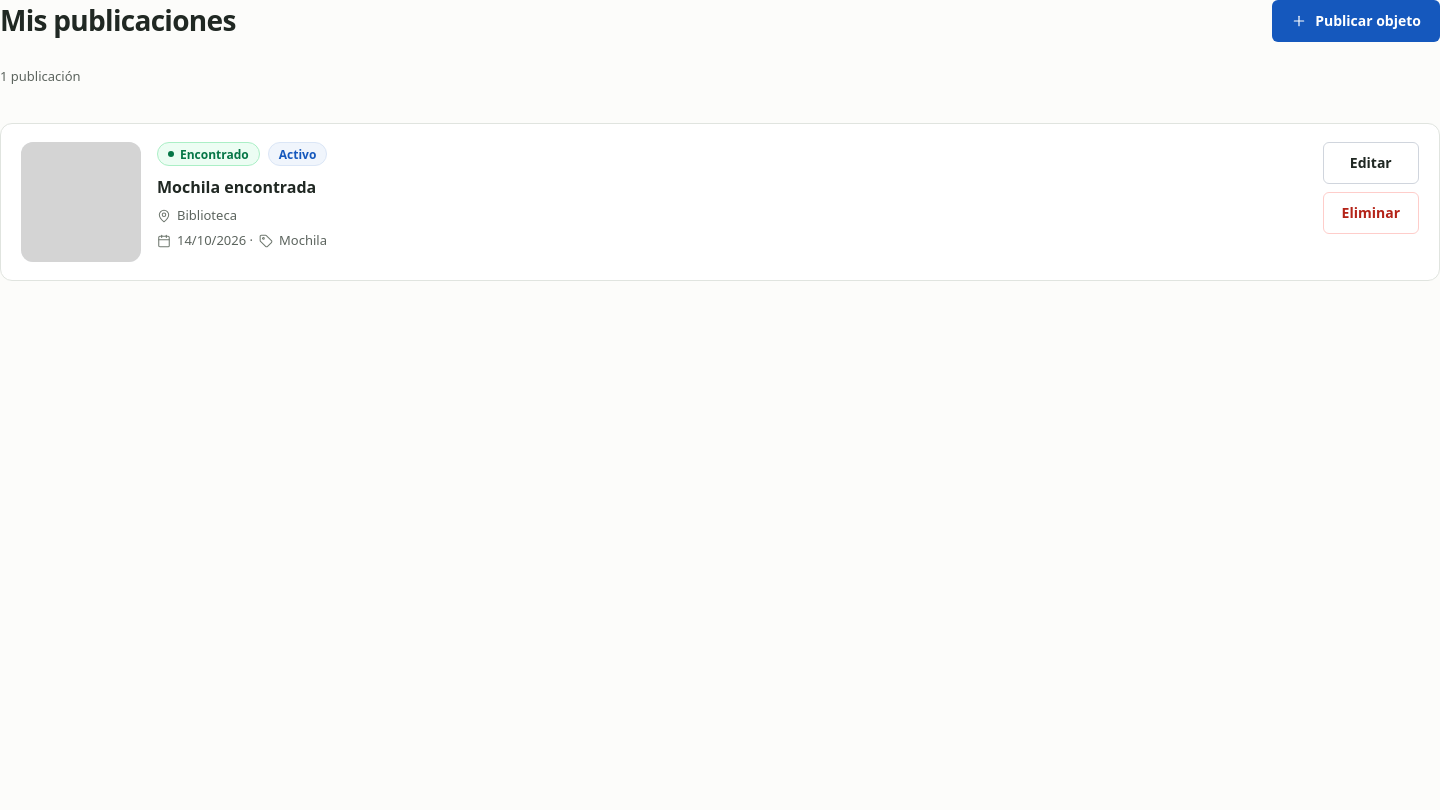
Scenario: H14 - Mis publicaciones › si el servidor rechaza la eliminación no hay éxito ficticio
Click the button with aria-label "Eliminar Mochila encontrada" at (1371, 213), box 1323,192 -> 1419,234
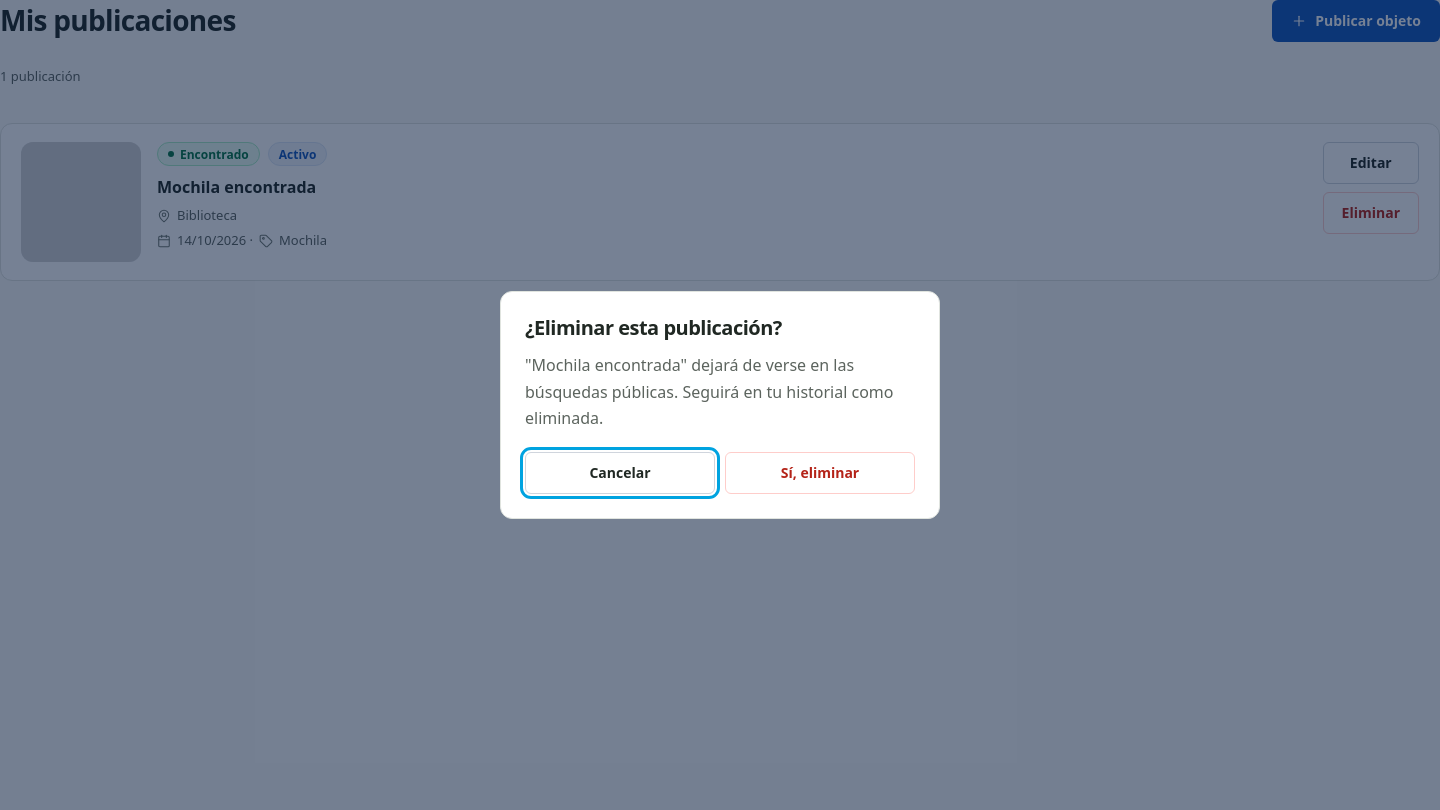
Click the button "Sí, eliminar" at (820, 473), box 725,452 -> 915,494
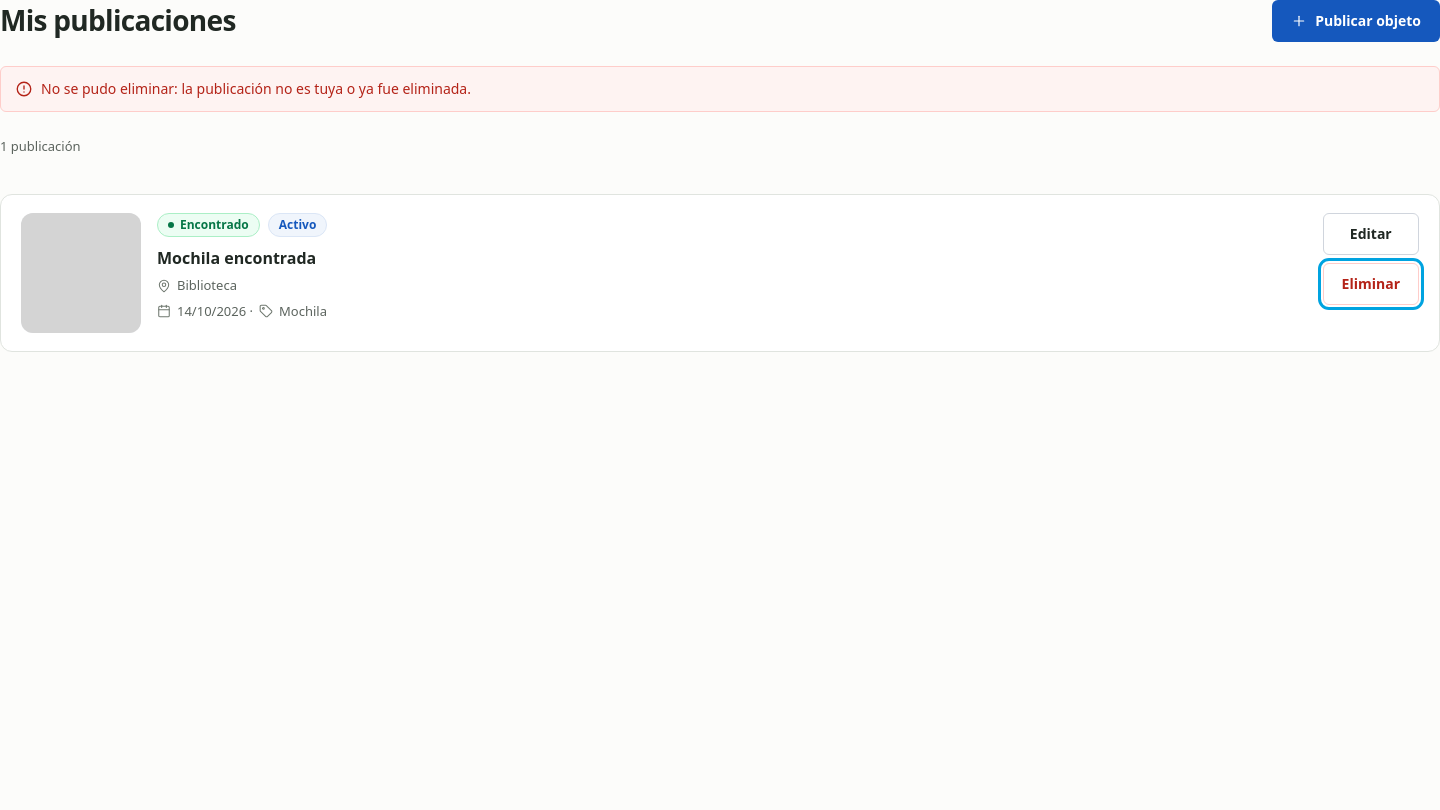
Expected: the text "Activo" is shown, 268,213 -> 327,237
Result: the text "No se pudo eliminar: la publicación no es tuya o ya fue eliminada." is shown at 15,79 -> 471,99
